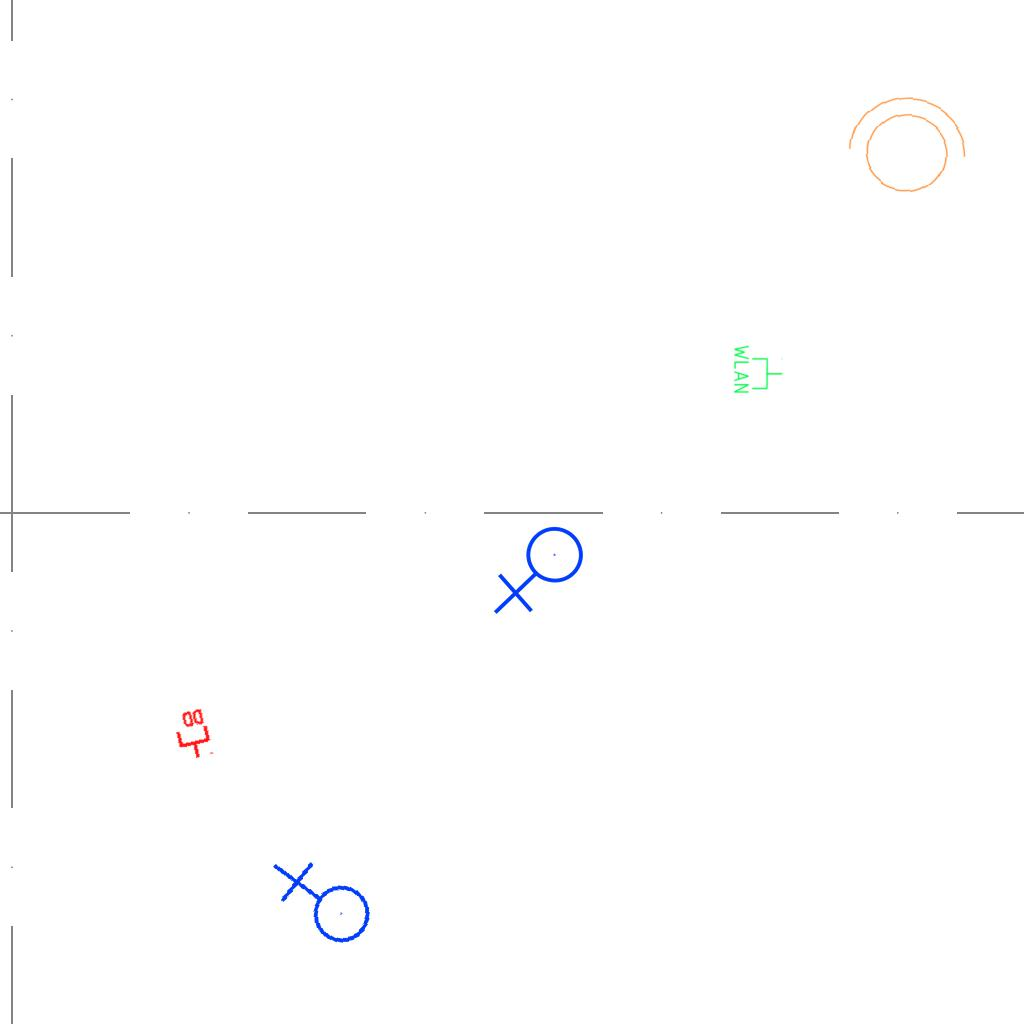Datenanschluss_zweifach: (169, 705, 215, 764)
Elektroanschluss_allgemein_230V_Geraeteanschlussdose_230V: (267, 848, 378, 962), (493, 525, 592, 619)
Scheinwerfer_fuer_Alarmbeleuchtung: (834, 87, 974, 209)
WLAN: (732, 343, 784, 395)
